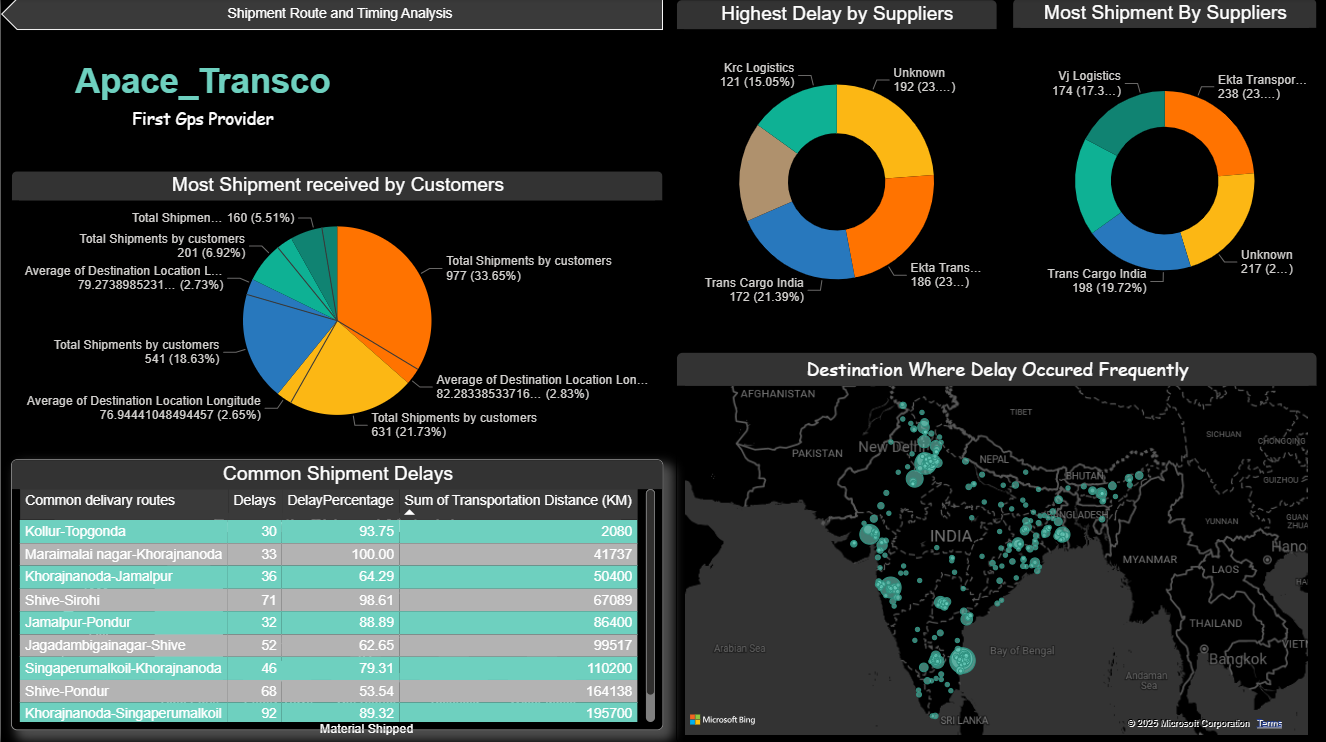

The page's visual inventory and layout, read from the dashboard file:
{"tool":"powerbi","page":{"name":"Supplier, Customer, and Material Insights","canvas":[1280,720],"ordinal":1},"visuals":[{"type":"lineStackedColumnComboChart","title":"Frequently Shipped Materials","fields":{"Category":["Data.Material Shipped"],"Y":["Data.Total Shipments"]},"box":[50.7,495.8,548.9,224.4],"z":0},{"type":"donutChart","title":"Most Shipment By Suppliers","fields":{"Category":["Data.Supplier Name"],"Y":["Data.Most Shipment"]},"box":[976,0,294.4,331.8],"z":1000},{"type":"pieChart","title":"Most Shipment received by Customers","fields":{"Category":["Data.Customer Name"],"Y":["Data.Total Shipments","Avg(Data.Destination Location Longitude)"]},"box":[9.7,166.5,629.8,269],"z":2000},{"type":"tableEx","title":"Common Shipment Delays","fields":{"Values":["Data.Common delivary routes","Data.Delays","Data.DelayPercentage","Sum(Data.Transportation Distance (KM))"]},"box":[9.7,445.2,629.8,261.8],"z":3000},{"type":"donutChart","title":"Highest Delay by Suppliers","fields":{"Category":["Data.Supplier Name"],"Y":["Data.Delays"]},"box":[651.5,1.2,310.1,331.8],"z":4000},{"type":"card","fields":{"Values":["Min(Data.Gps Provider)"]},"box":[0,31.4,389.7,118.2],"z":5000},{"type":"map","title":"Destination Where Delay Occured Frequently","fields":{"Size":["Data.Delays"],"X":["Data.Destination Location Longitude"],"Y":["Data.Destination Location Latitude"]},"box":[651.5,341.4,618.9,378.8],"z":8000},{"type":"pageNavigator","box":[0,0,639.4,31.4],"z":9000}]}

Visuals, with their boxes in screenshot pixels (x1, y1, x2, y2), scaled from the page's 1280x720 canvas onto the 1326x742 screenshot:
"Frequently Shipped Materials" lineStackedColumnComboChart: region(53, 511, 621, 741)
"Most Shipment By Suppliers" donutChart: region(1011, 0, 1316, 342)
"Most Shipment received by Customers" pieChart: region(10, 172, 662, 449)
"Common Shipment Delays" tableEx: region(10, 459, 662, 729)
"Highest Delay by Suppliers" donutChart: region(675, 1, 996, 343)
card - Min(Data.Gps Provider): region(0, 32, 404, 154)
"Destination Where Delay Occured Frequently" map: region(675, 352, 1316, 741)
pageNavigator: region(0, 0, 662, 32)
